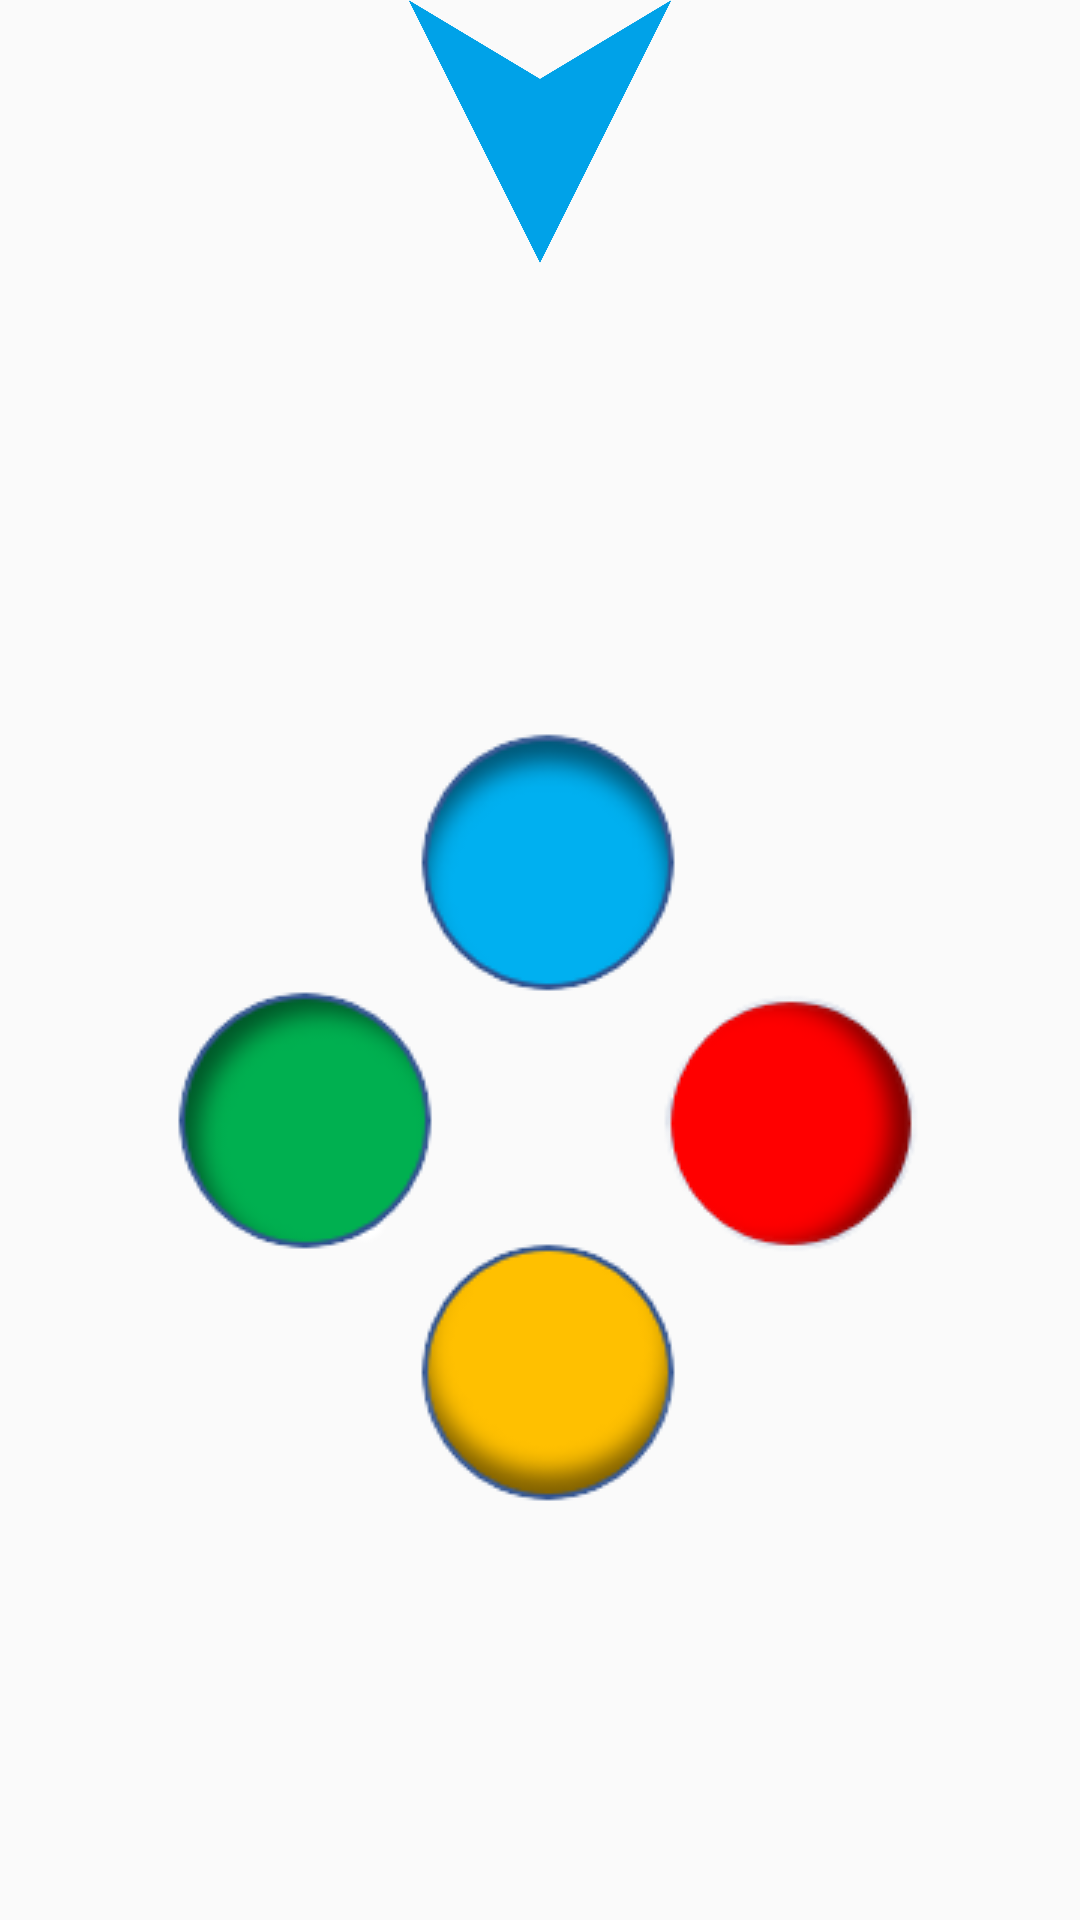

Screen size 1080×1920. Icon name, then its box in pixels as (x1, y1, x2, y2):
arrow: (409, 0, 671, 262)
